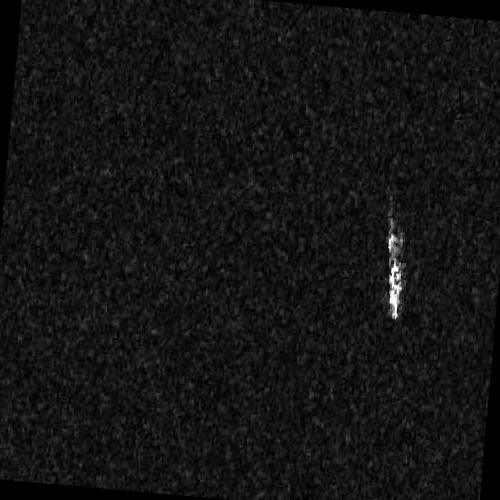ship: (387, 215, 402, 321)
